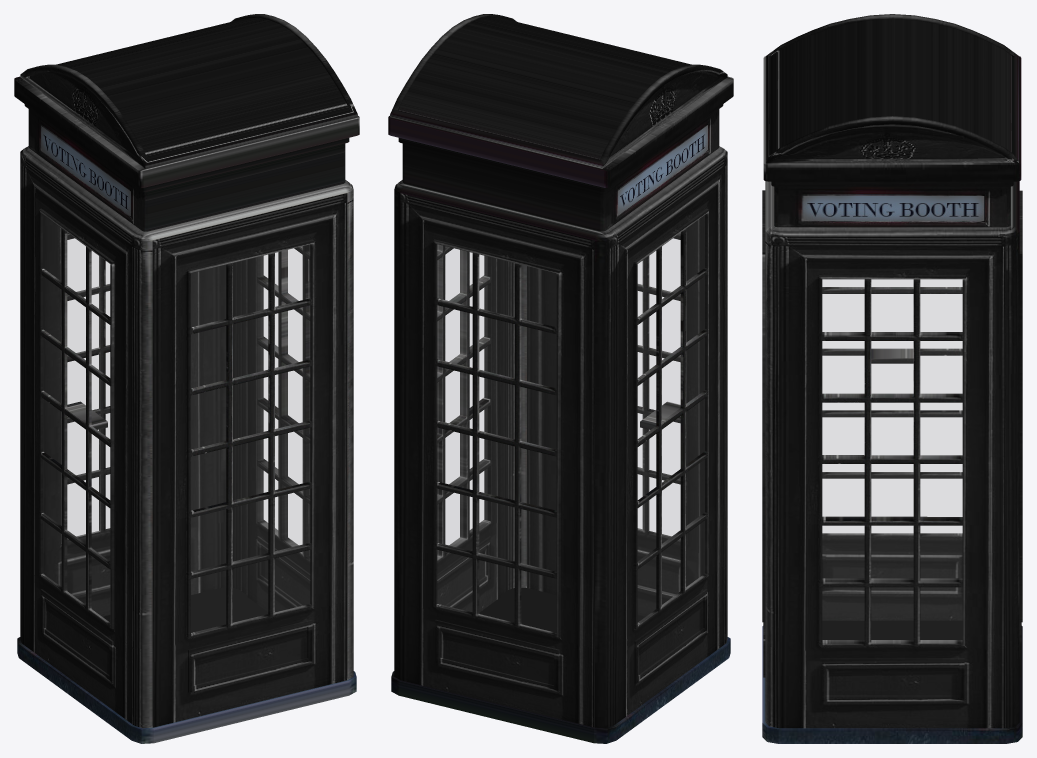
File: telephone_booth_black .glb
The picture shows the model from 3 angles, left to right: view 1: azimuth 30°, elevation 25°; view 2: azimuth 150°, elevation 25°; view 3: azimuth 270°, elevation 25°; orthographic projection.
Visible parts, largest first — view 1: Booth, BoothDoor; view 2: Booth, BoothDoor; view 3: Booth, BoothDoor.
Part boxes in pixels (box(x1,y1,x2,y2)): Booth: box(14, 14, 359, 743); BoothDoor: box(247, 244, 310, 612); Booth: box(388, 14, 733, 743); BoothDoor: box(437, 244, 500, 612); Booth: box(762, 14, 1022, 743); BoothDoor: box(797, 254, 987, 728).
Bounding box in the file's own units: 1.16 × 3.07 × 1.16.
3 materials, 1 textured.
